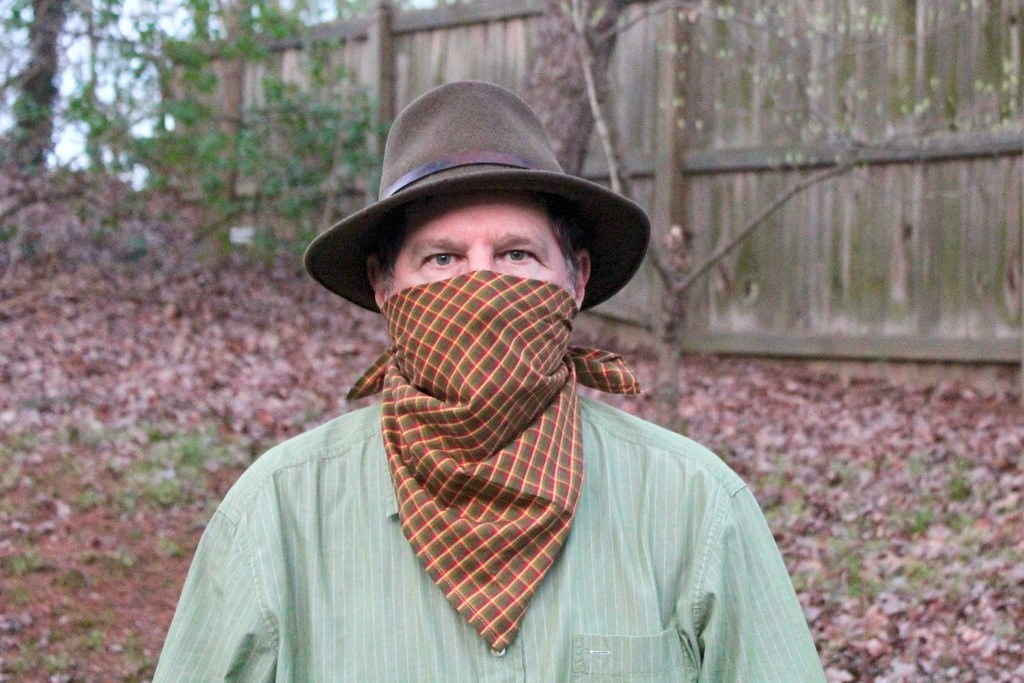face_with_mask: (361, 112, 591, 441)
